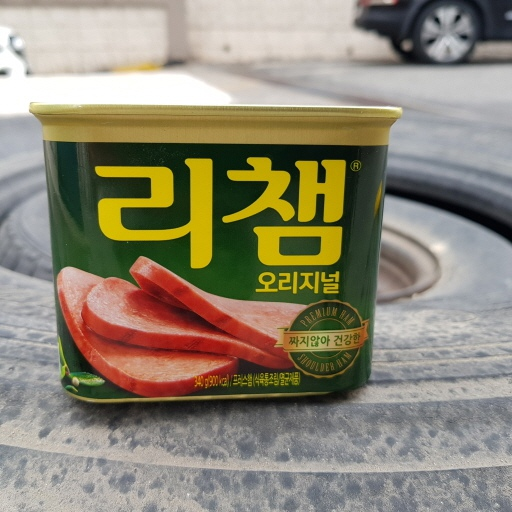Metal_2: (26, 93, 408, 399)
